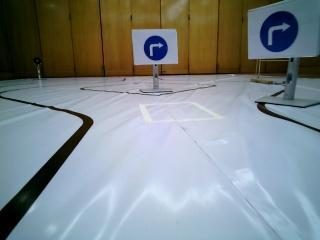right: (247, 4, 320, 59), (129, 29, 178, 63)
